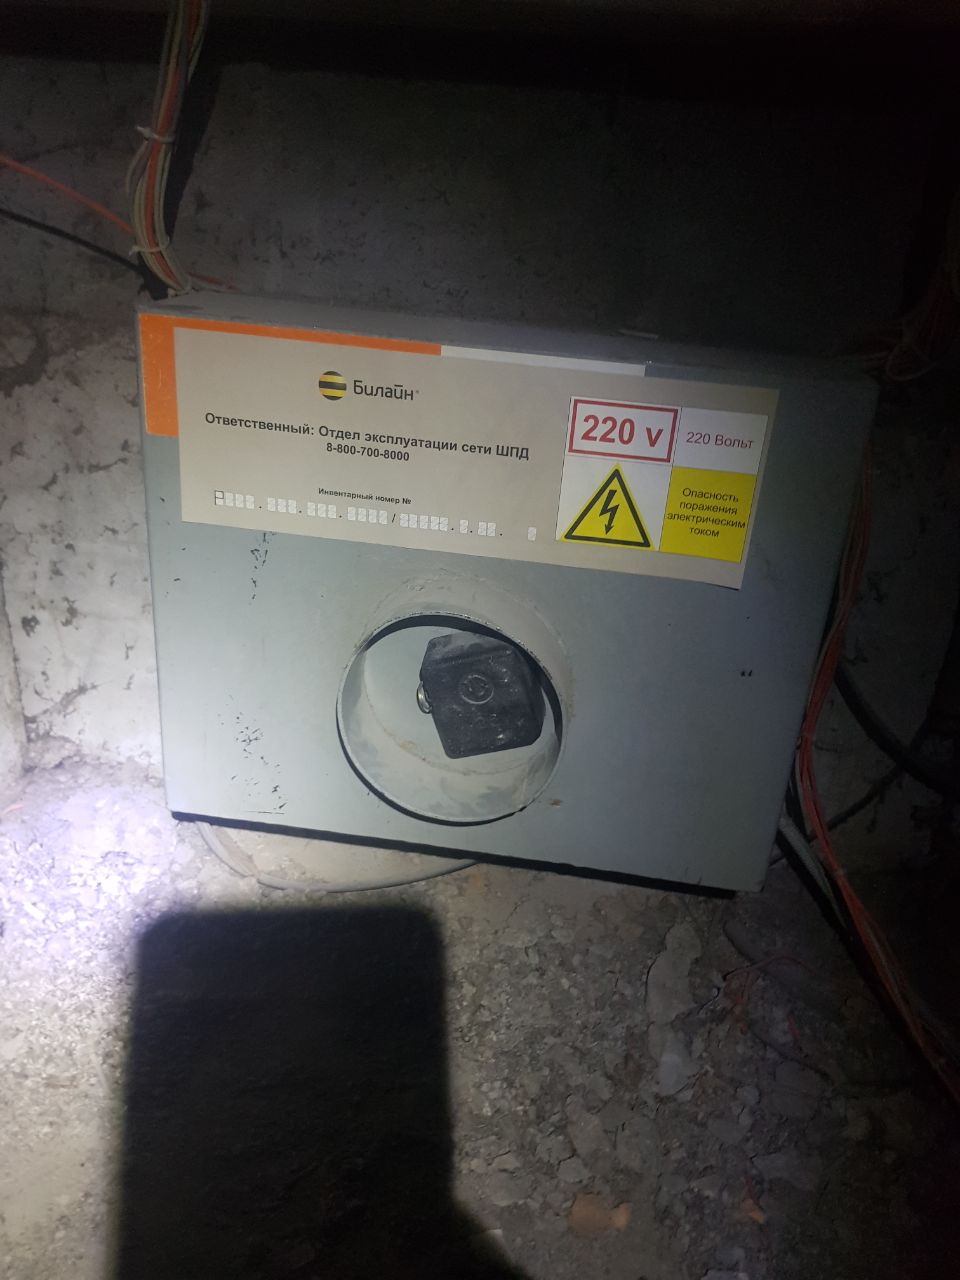shta-3: (129, 284, 885, 894)
